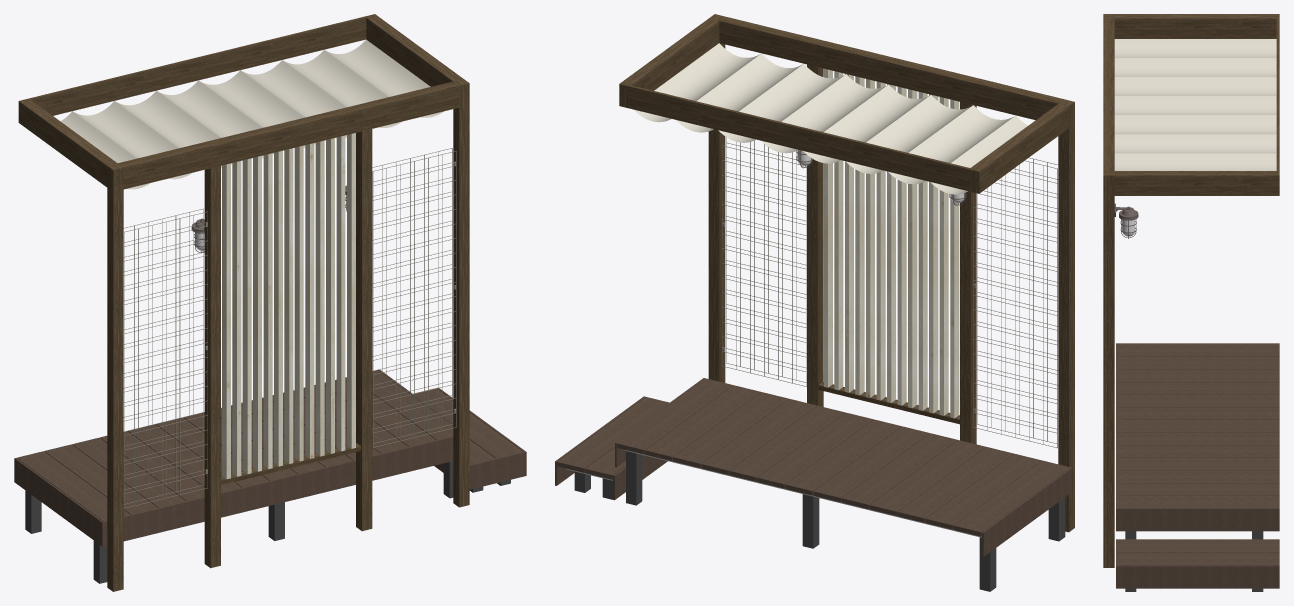
File: fp8-g_w3026-d1180_brownebony.fbx
The picture shows the model from 3 angles, left to right: view 1: azimuth 30°, elevation 25°; view 2: azimuth 150°, elevation 25°; view 3: azimuth 270°, elevation 25°; orthographic projection. The views are drawn at different scales.
Parts seen in each view (by area): view 1: fp8-g_w3026-d1180_brownebony; view 2: fp8-g_w3026-d1180_brownebony; view 3: fp8-g_w3026-d1180_brownebony.
Boxes of the visible parts, left/top/right/bottom form: fp8-g_w3026-d1180_brownebony: left=14, top=14, right=526, bottom=591; fp8-g_w3026-d1180_brownebony: left=555, top=14, right=1074, bottom=591; fp8-g_w3026-d1180_brownebony: left=1103, top=14, right=1279, bottom=591.
Size of the model in its own units: 305 by 290 by 118.
Materials: 13 (6 with a texture image).
